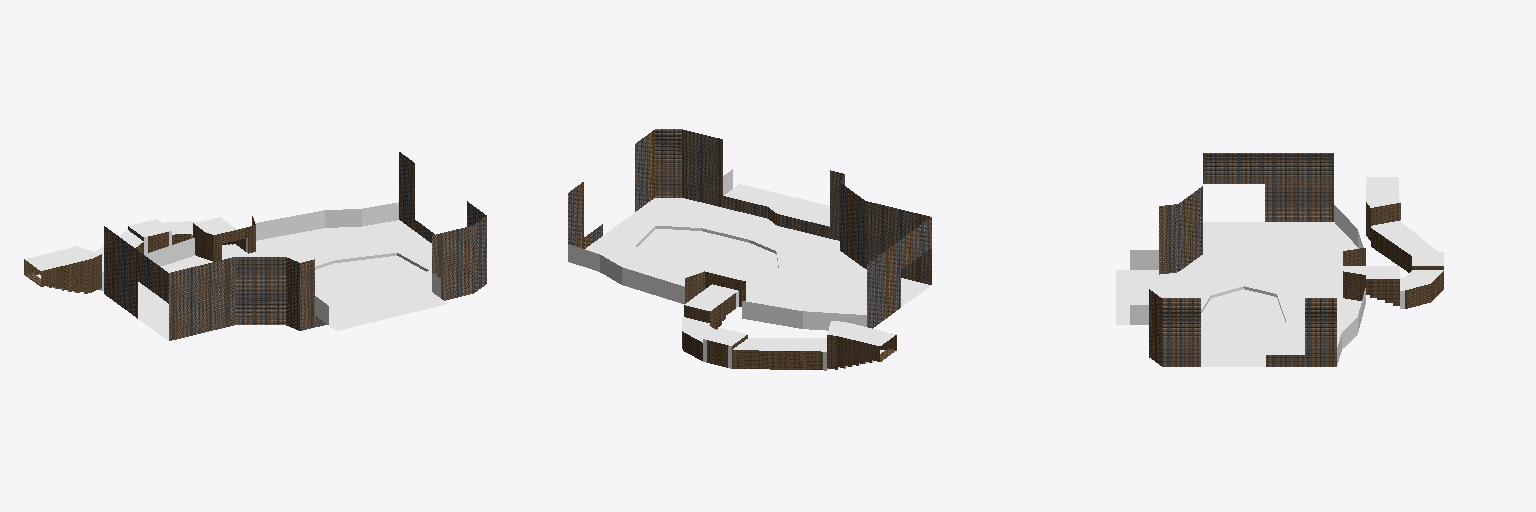
3 views of the same model, side by side, from view 1: azimuth 30°, elevation 25°; view 2: azimuth 150°, elevation 25°; view 3: azimuth 270°, elevation 25° (orthographic).
Visible parts, largest first — view 1: l1_geo04; view 2: l1_geo04; view 3: l1_geo04.
Boxes of the visible parts, <box> form: l1_geo04: <box>24,152,486,340</box>; l1_geo04: <box>568,129,931,370</box>; l1_geo04: <box>1116,153,1443,366</box>.
Size of the model in its own units: 90.75 by 21 by 75.
Materials: 11 (2 with a texture image).